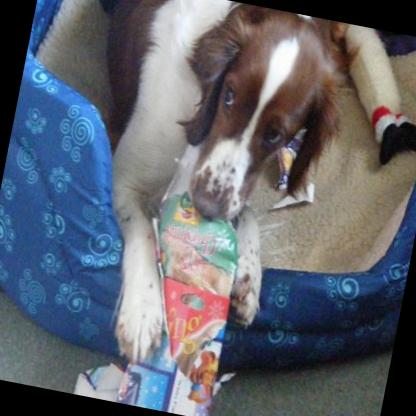Welsh_springer_spaniel: (45, 0, 363, 391)
